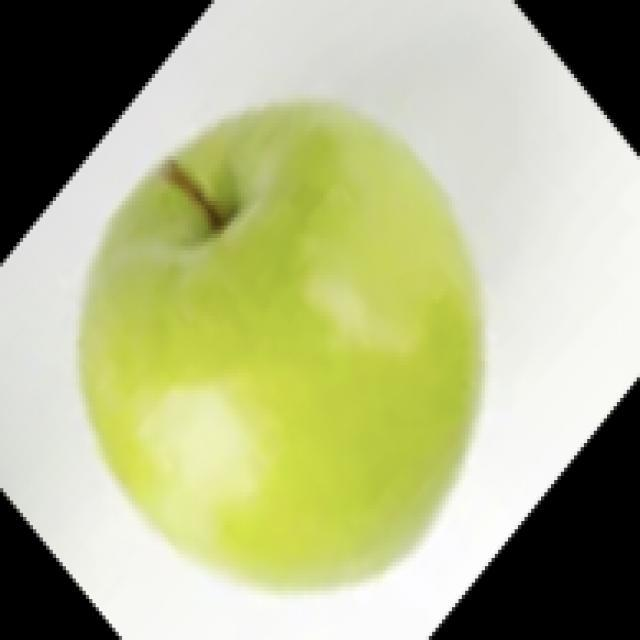Fresh Apple: (105, 113, 477, 585)
